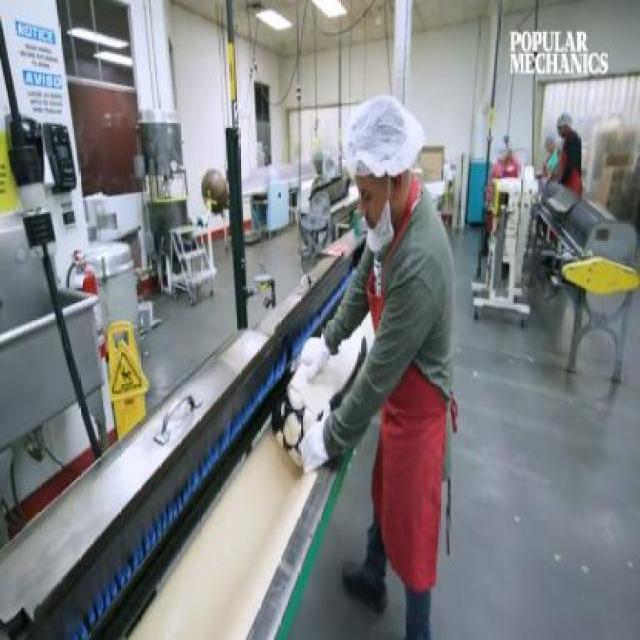gloved_hand: (303, 320, 340, 384)
